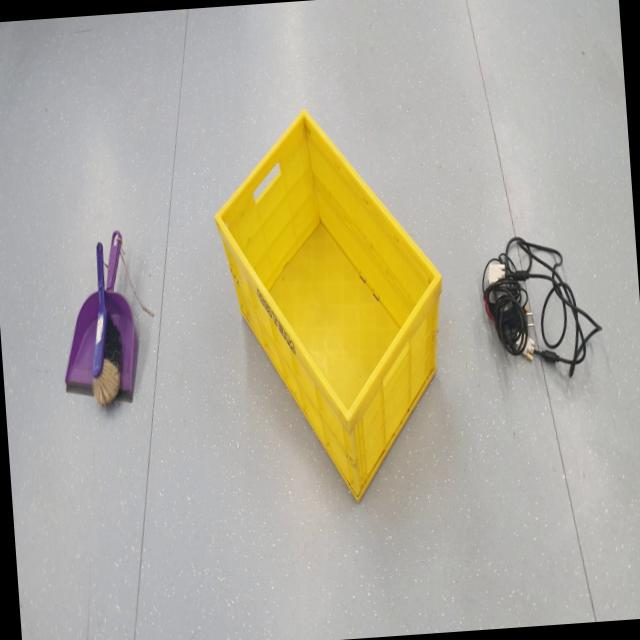box: (203, 80, 470, 539)
